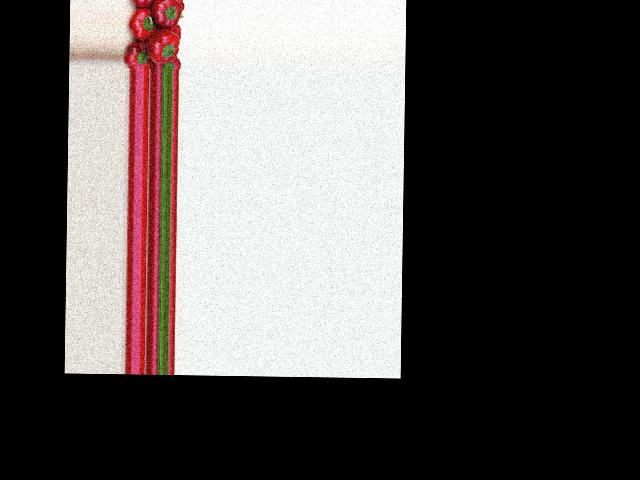bell_pepper: (169, 24, 182, 37)
